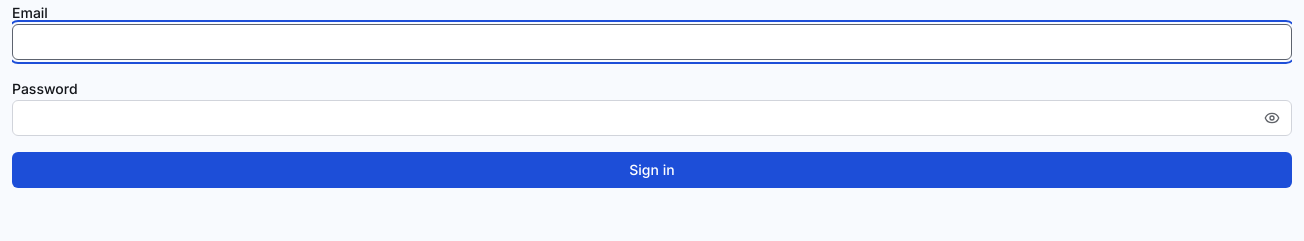
Test: PlatformLoginForm › shows one generic error on rejected credentials — enumeration-resistant, same shape as LoginForm
The width and height of the screenshot is (1304, 241).
Type "admin@example.com" into the field labelled "Email" at (652, 42), box top-left (12, 24), bottom-right (1292, 60)
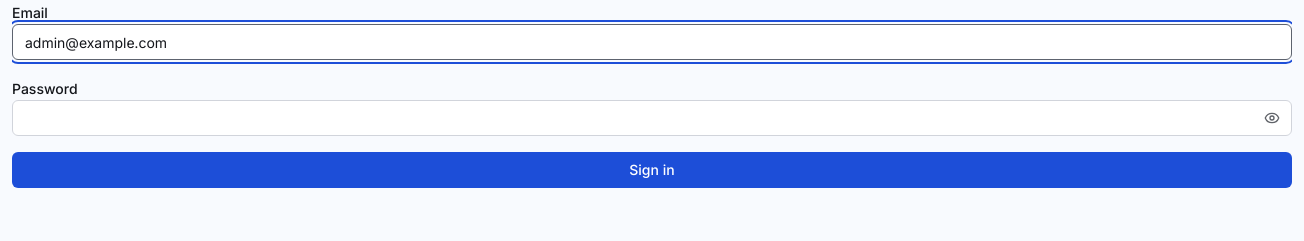
Type "wrong" into the password field labelled "Password" at (652, 118), box top-left (12, 100), bottom-right (1292, 136)
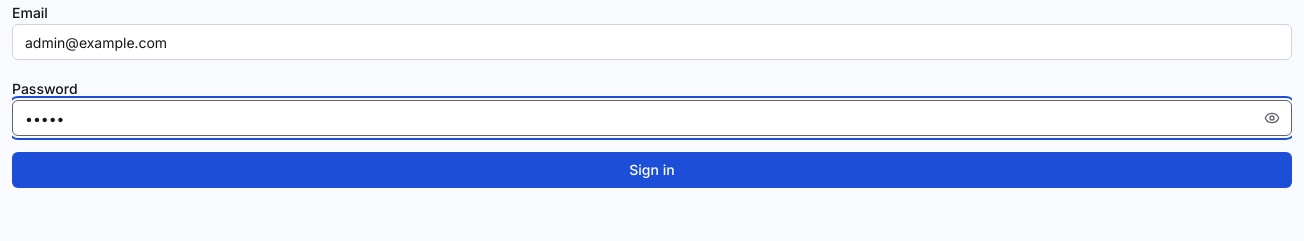
Click the button "Sign in" at (652, 170), box top-left (12, 152), bottom-right (1292, 188)
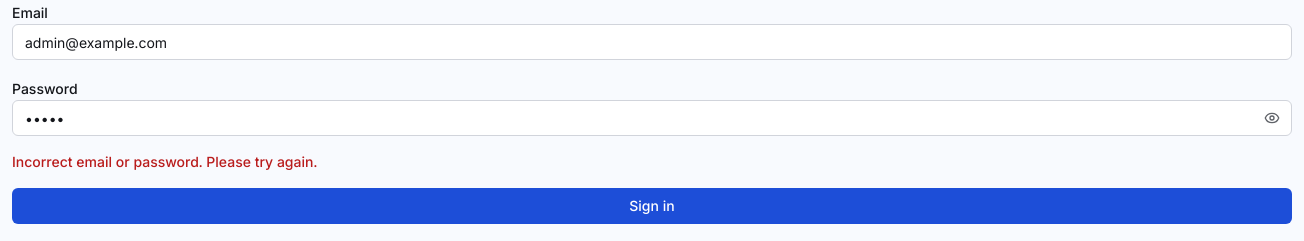
Check: the message shows "Incorrect email or password", box top-left (12, 153), bottom-right (317, 170)
